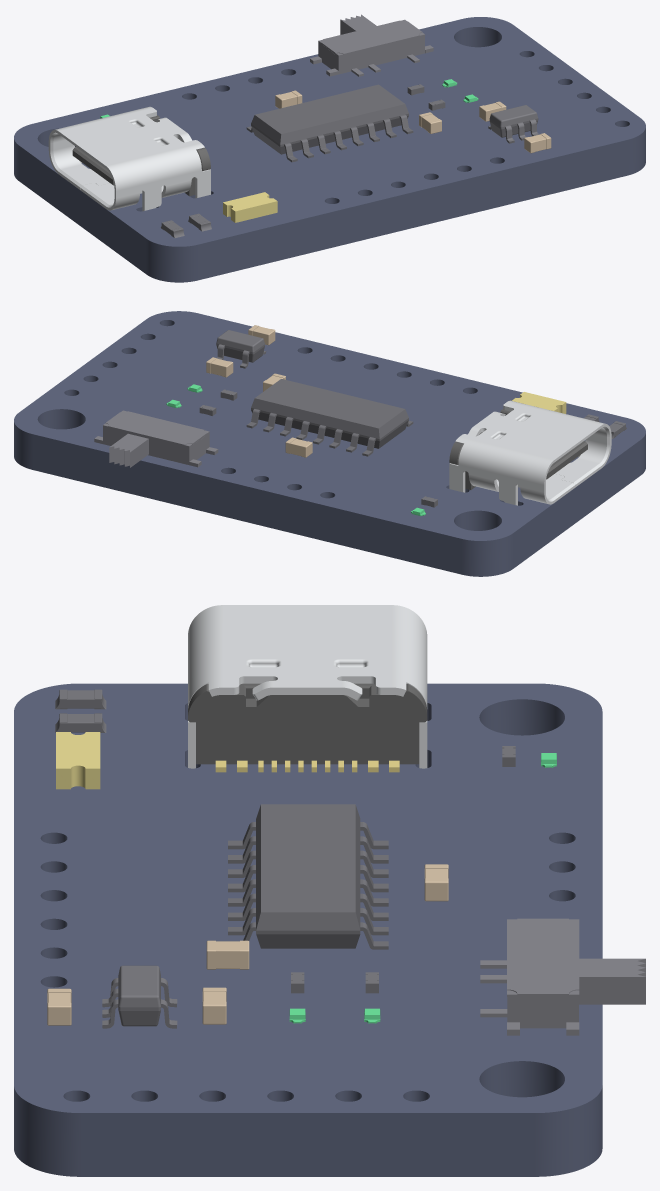
File: web.glb
3 renders of one model, top to bottom at view 1: azimuth 30°, elevation 25°; view 2: azimuth 150°, elevation 25°; view 3: azimuth 270°, elevation 25°, orthographic. The views are drawn at different scales.
Parts seen in each view (by area): view 1: USB-UART CH340 converter board_PCB, Frame, HX714, Selector Switch - MSK1103, DBV5A004, Mold, 22225; view 2: USB-UART CH340 converter board_PCB, Frame, HX714, Selector Switch - MSK1103, DBV5A004, Mold, 22225; view 3: USB-UART CH340 converter board_PCB, Frame, Mold, HX714, Selector Switch - MSK1103, DBV5A004, 22225, PcbPins, 22222, User Library-R0603-001, User Library-R0603-1.
Part boxes in pixels (box(x1,y1,x2,y2)): USB-UART CH340 converter board_PCB: box(14, 17, 645, 282); Frame: box(48, 106, 210, 211); HX714: box(251, 84, 408, 154); Selector Switch - MSK1103: box(310, 14, 433, 76); DBV5A004: box(489, 105, 538, 137); Mold: box(72, 115, 210, 196); 22225: box(229, 193, 270, 221); USB-UART CH340 converter board_PCB: box(14, 311, 645, 576); Frame: box(449, 400, 611, 505); HX714: box(251, 379, 408, 448); Selector Switch - MSK1103: box(94, 410, 218, 467); DBV5A004: box(216, 330, 264, 362); Mold: box(449, 409, 587, 489); 22225: box(518, 393, 560, 409); USB-UART CH340 converter board_PCB: box(14, 683, 602, 1176); Frame: box(188, 605, 427, 768); Mold: box(188, 683, 427, 764); HX714: box(256, 804, 360, 948); Selector Switch - MSK1103: box(480, 918, 645, 1035); DBV5A004: box(118, 965, 160, 1026); 22225: box(56, 736, 100, 762); PcbPins: box(215, 760, 399, 772); 22222: box(56, 764, 100, 789); User Library-R0603-001: box(55, 689, 106, 709); User Library-R0603-1: box(55, 713, 106, 732).
Size of the model in its own units: 0.038 by 0.00584 by 0.0236.
